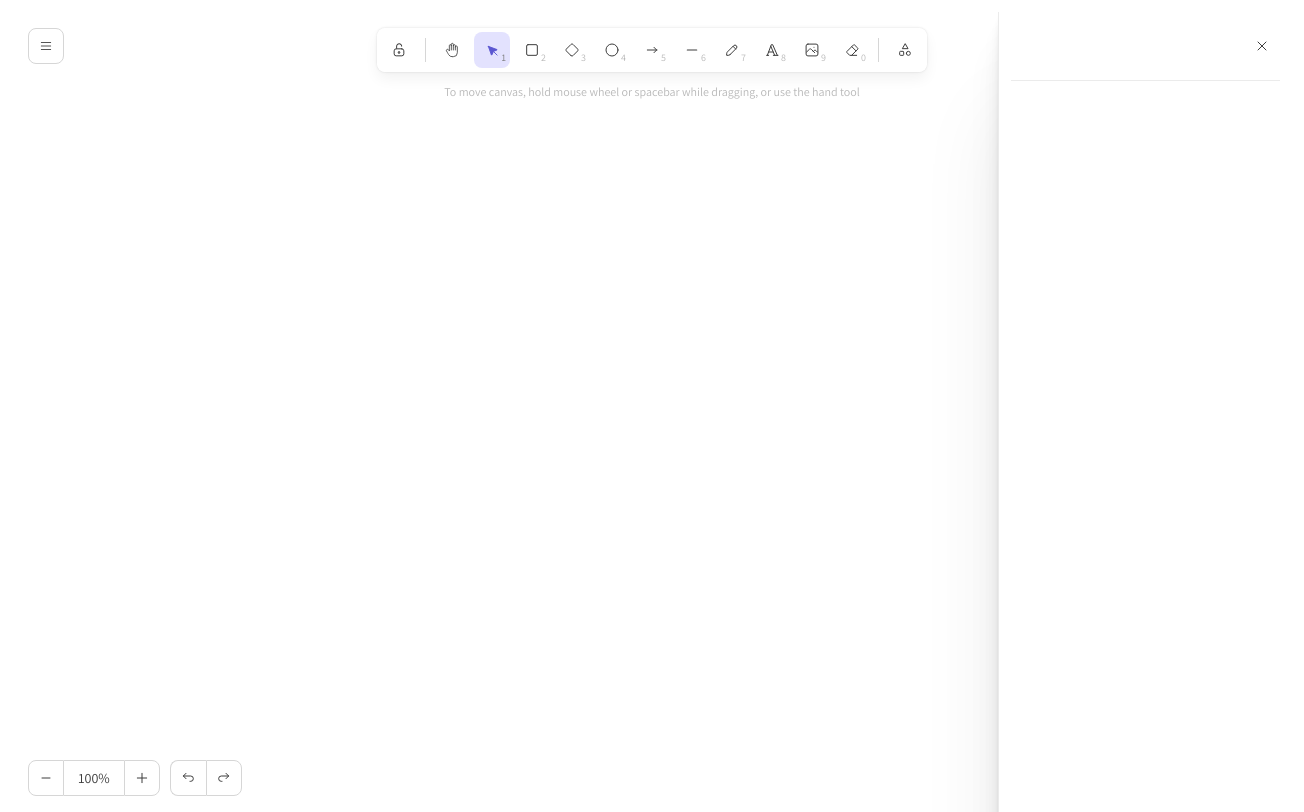
Sidebar › <Sidebar.Header/> › <Sidebar.Header> should render close button
The width and height of the screenshot is (1304, 812).
Expected: the element with class "test-sidebar" is shown, [998,12,1292,811]
What coordinates should you click on to do the following:
click the button with test id "sidebar-close"
I would click on:
 (1262, 46)
Its box is [1244,28,1280,64].
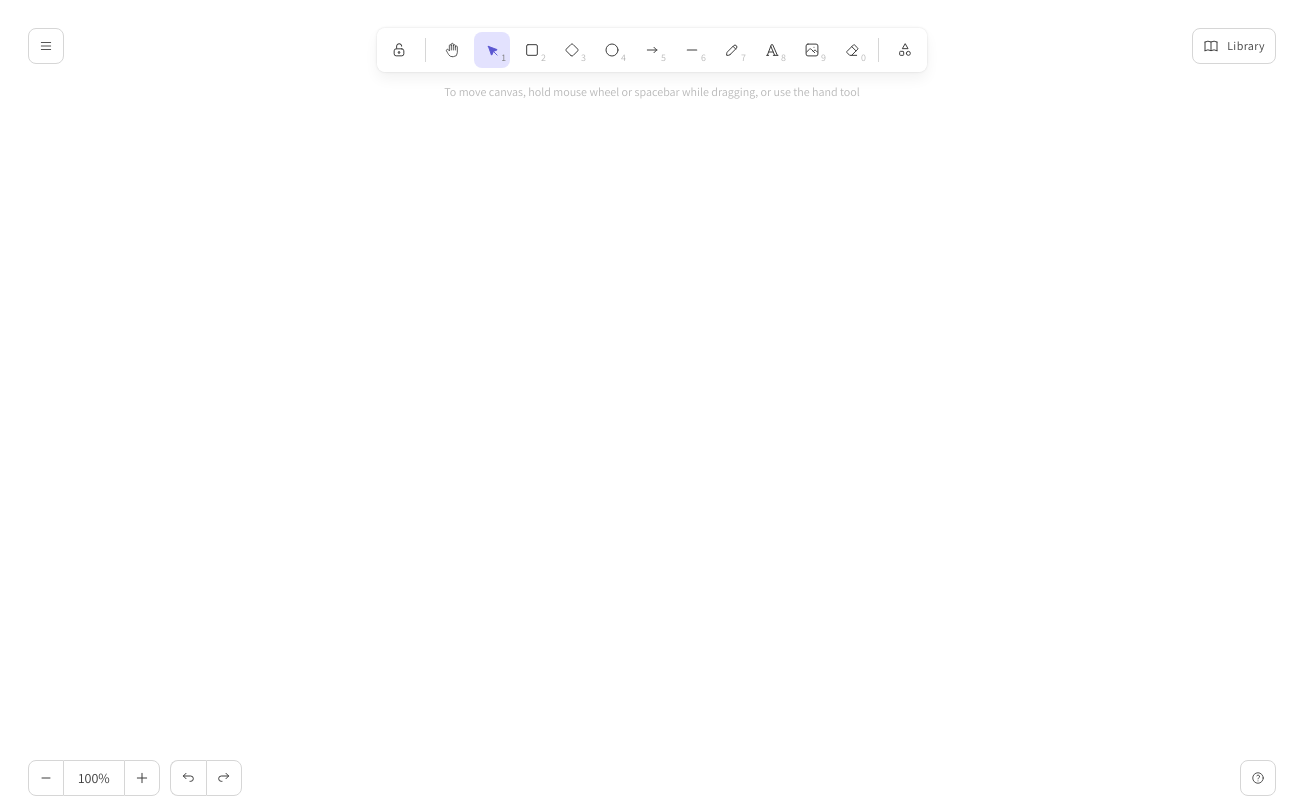
Expected: the element with class "test-sidebar" is gone
